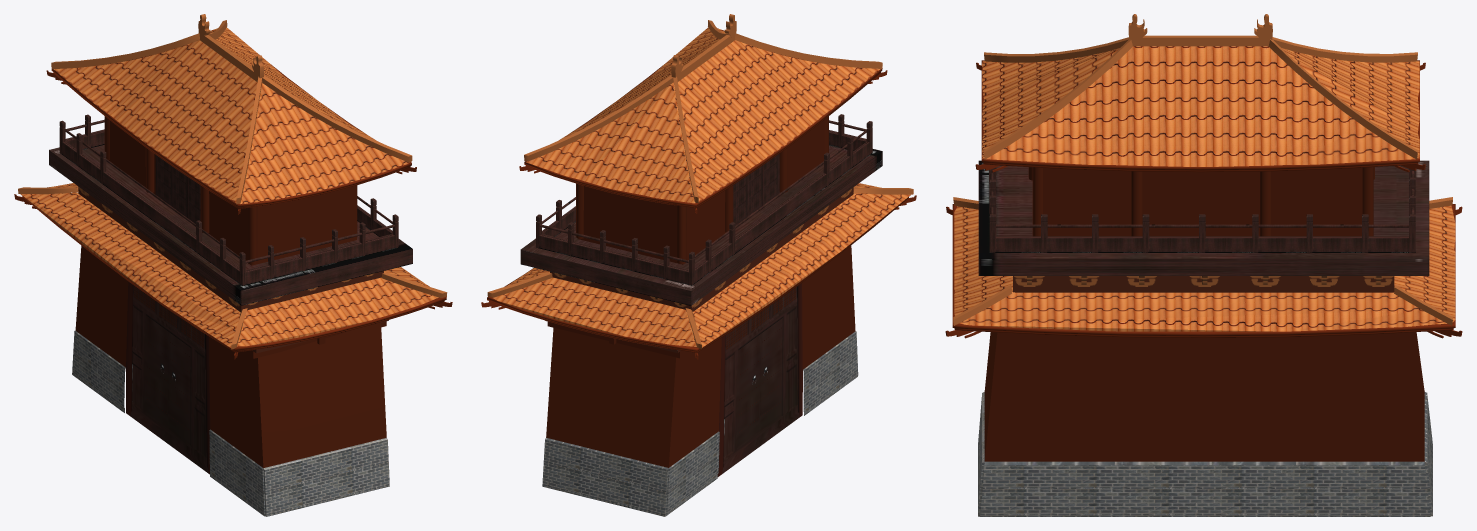
Rendered from wangqinlou2.FBX.
The picture shows the model from 3 angles, left to right: view 1: azimuth 30°, elevation 25°; view 2: azimuth 150°, elevation 25°; view 3: azimuth 270°, elevation 25°; orthographic projection. The views are drawn at different scales.
Parts seen in each view (by area): view 1: wang; view 2: wang; view 3: wang.
Part boxes in pixels (x1=…): wang: x1=14, y1=14, x2=452, y2=516; wang: x1=481, y1=14, x2=916, y2=516; wang: x1=945, y1=14, x2=1462, y2=516.
Size of the model in its own units: 254 by 441 by 444.
Materials: 15 (12 with a texture image).
